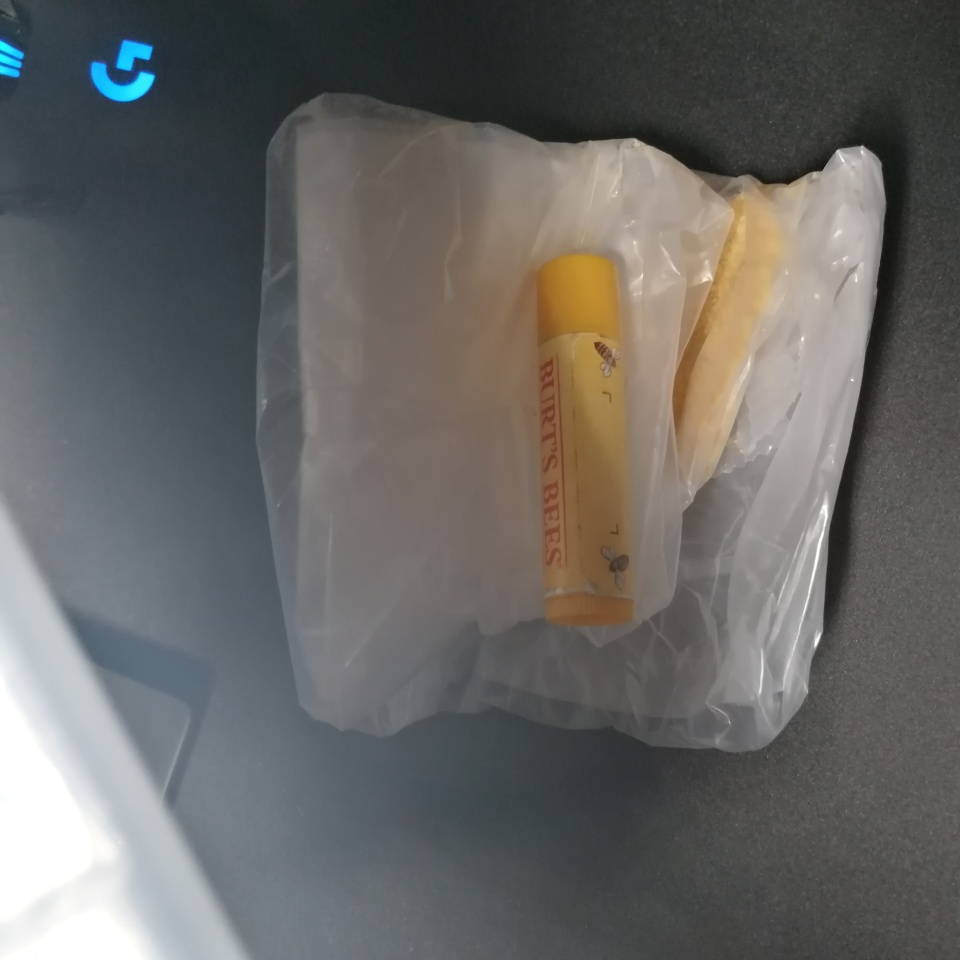chapstick: (535, 254, 639, 627)
